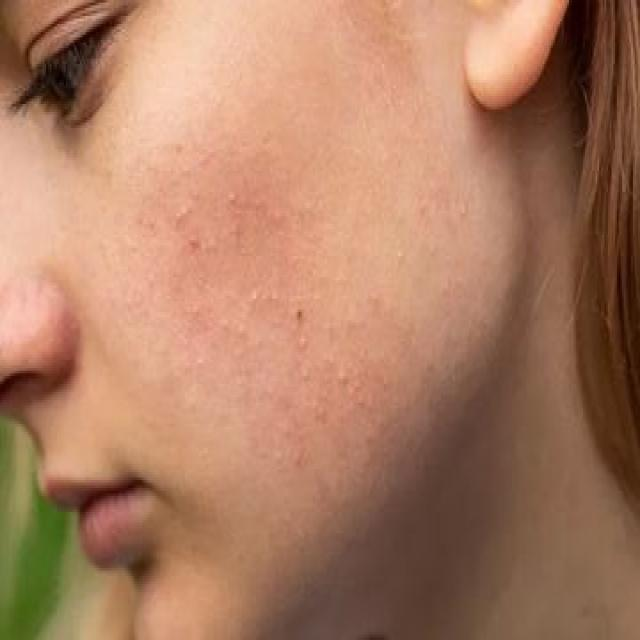Dry-Skin: (348, 0, 449, 111), (45, 267, 139, 367), (144, 201, 225, 300)
